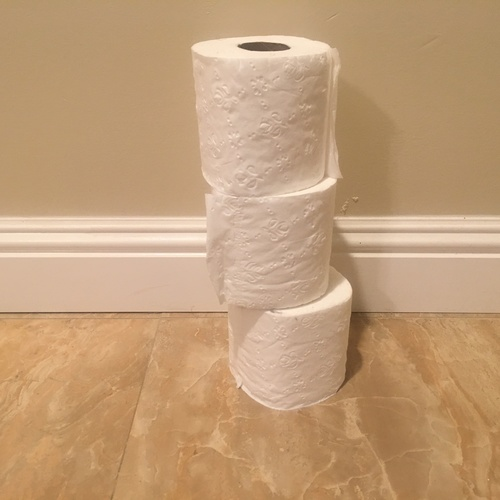roll: (193, 34, 341, 192), (227, 265, 352, 412), (204, 176, 332, 305)
